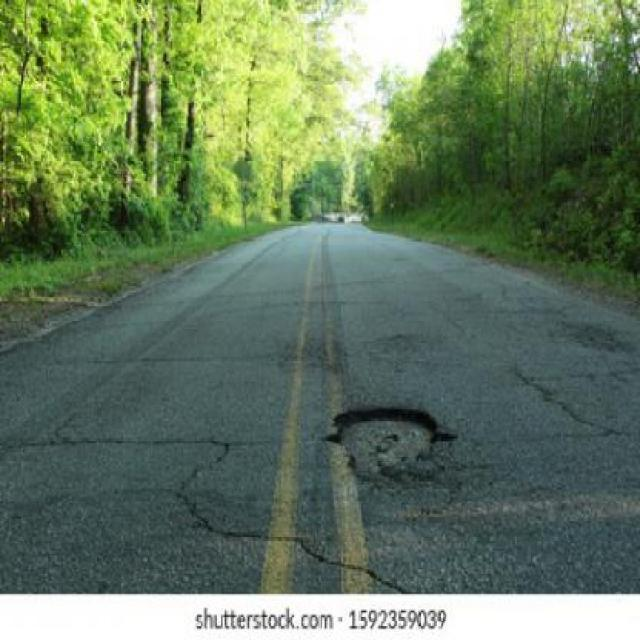Pothole: (325, 403, 460, 497)
